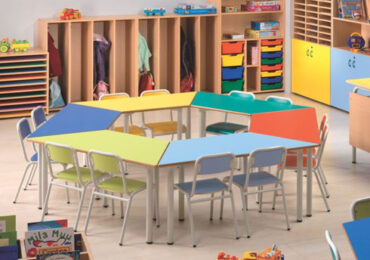m01: (158, 133, 320, 245), (26, 129, 171, 245)
